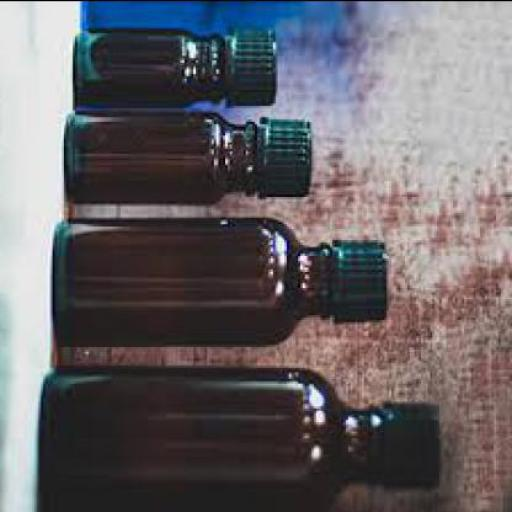glass: (45, 366, 385, 510), (52, 214, 334, 346), (66, 110, 259, 198), (75, 28, 230, 106)
plastic: (387, 398, 444, 487), (335, 237, 389, 321), (262, 114, 314, 194), (232, 25, 280, 104)
